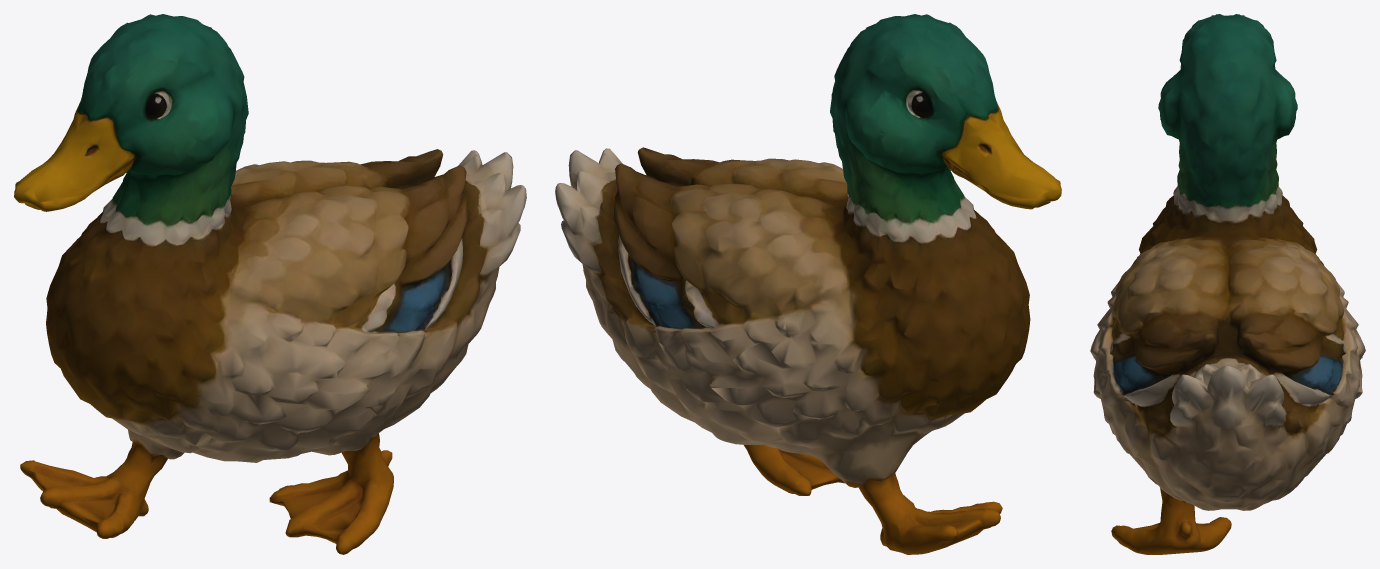
File: nat_duck_a_v1.glb
3 views of the same model, side by side, from view 1: azimuth 30°, elevation 25°; view 2: azimuth 150°, elevation 25°; view 3: azimuth 270°, elevation 25° (orthographic). The views are drawn at different scales.
Visible parts, largest first — view 1: tripo_node_8da4ee6f-bb4e-4027-8696-99e55d75e48d; view 2: tripo_node_8da4ee6f-bb4e-4027-8696-99e55d75e48d; view 3: tripo_node_8da4ee6f-bb4e-4027-8696-99e55d75e48d.
Boxes of the visible parts, <box> form: tripo_node_8da4ee6f-bb4e-4027-8696-99e55d75e48d: <box>14,14,526,554</box>; tripo_node_8da4ee6f-bb4e-4027-8696-99e55d75e48d: <box>555,14,1061,554</box>; tripo_node_8da4ee6f-bb4e-4027-8696-99e55d75e48d: <box>1090,14,1365,554</box>.
Bounding box in the file's own units: 0.9804 × 0.9797 × 0.5235.
1 material, 1 textured.
